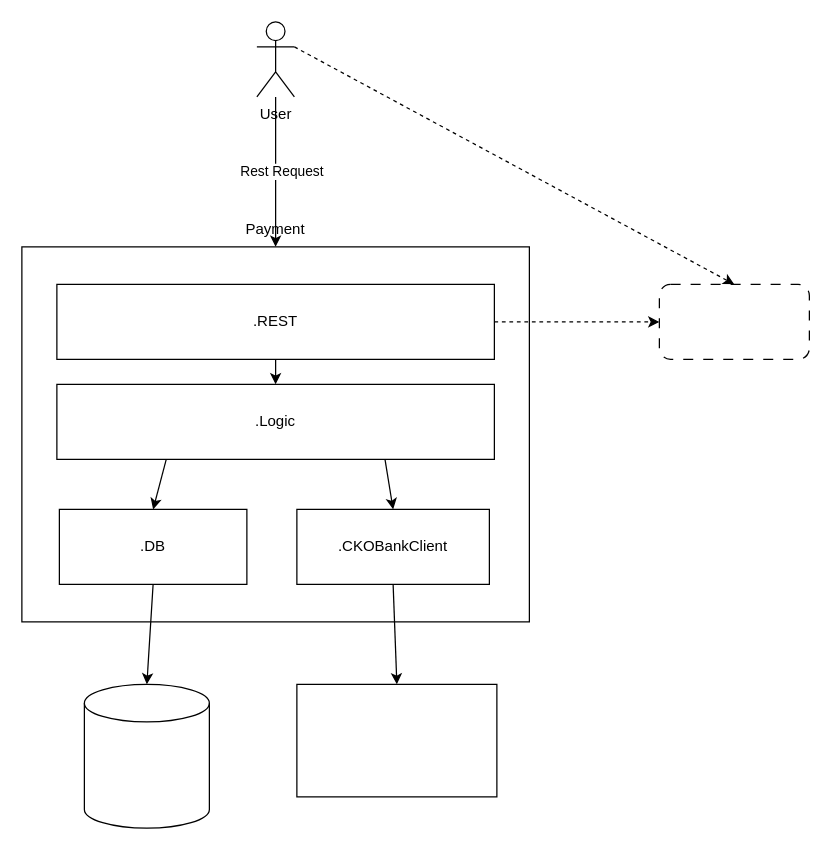
Some shapes in this 831 by 850 pixel diagram are drawn without their labels. Each missing label, with the centre of its shape:
"Auth API (Imaginary)" goes at [733,321].
"Bank Mock API" goes at [396,740].
"Mongo DB" goes at [146,755].
